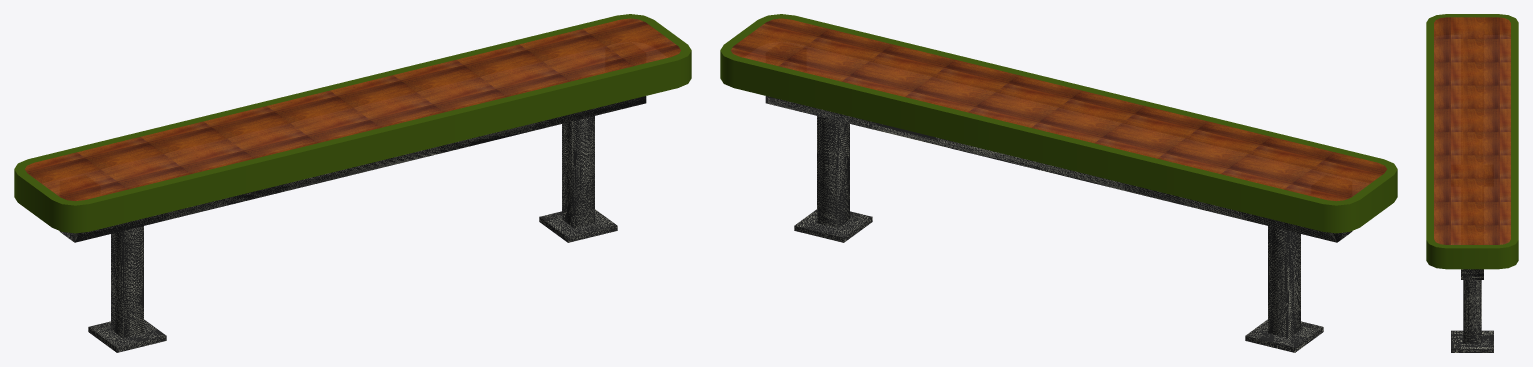
The picture shows the model from 3 angles, left to right: view 1: azimuth 30°, elevation 25°; view 2: azimuth 150°, elevation 25°; view 3: azimuth 270°, elevation 25°; orthographic projection. The views are drawn at different scales.
Parts seen in each view (by area): view 1: mesh4_mesh4-geometry, mesh1_mesh1-geometry, mesh3_mesh3-geometry, mesh2_mesh2-geometry; view 2: mesh4_mesh4-geometry, mesh1_mesh1-geometry, mesh3_mesh3-geometry, mesh2_mesh2-geometry; view 3: mesh4_mesh4-geometry, mesh1_mesh1-geometry, mesh2_mesh2-geometry, mesh3_mesh3-geometry.
Boxes of the visible parts, bbox=[...] form: mesh4_mesh4-geometry: bbox=[14, 14, 691, 233]; mesh1_mesh1-geometry: bbox=[111, 116, 594, 337]; mesh3_mesh3-geometry: bbox=[59, 96, 646, 242]; mesh2_mesh2-geometry: bbox=[88, 209, 617, 352]; mesh4_mesh4-geometry: bbox=[720, 14, 1397, 233]; mesh1_mesh1-geometry: bbox=[817, 116, 1300, 337]; mesh3_mesh3-geometry: bbox=[765, 96, 1352, 242]; mesh2_mesh2-geometry: bbox=[794, 209, 1323, 352]; mesh4_mesh4-geometry: bbox=[1426, 14, 1518, 269]; mesh1_mesh1-geometry: bbox=[1463, 280, 1481, 343]; mesh2_mesh2-geometry: bbox=[1451, 330, 1493, 352]; mesh3_mesh3-geometry: bbox=[1461, 269, 1483, 279].
Bounding box in the file's own units: 0.956 × 0.2465 × 0.1593.
